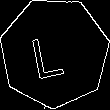L_N: (35, 25, 74, 80)
